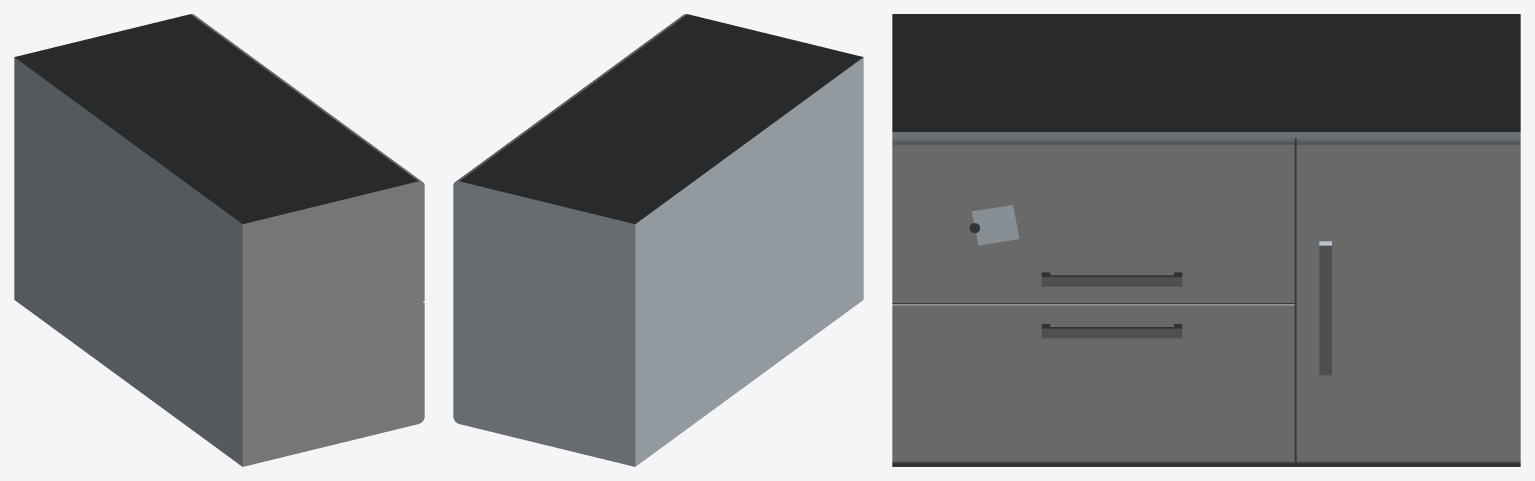
Rendered from fridge.obj.
3 views of the same model, side by side, from view 1: azimuth 30°, elevation 25°; view 2: azimuth 150°, elevation 25°; view 3: azimuth 270°, elevation 25° (orthographic). The views are drawn at different scales.
Visible parts, largest first — view 1: mesh21, mesh25, mesh20, mesh19; view 2: mesh21, mesh22, mesh20, mesh19; view 3: mesh20, mesh30, mesh39, mesh8, mesh19, mesh26, mesh27, mesh33, mesh42, mesh4, mesh13, mesh28.
Part boxes in pixels (box(x1,y1,x2,y2)): mesh21: box(14, 57, 242, 466); mesh25: box(242, 181, 424, 466); mesh20: box(14, 14, 417, 223); mesh19: box(190, 14, 421, 181); mesh21: box(635, 57, 863, 466); mesh22: box(453, 181, 635, 466); mesh20: box(460, 14, 863, 223); mesh19: box(456, 14, 687, 181); mesh20: box(892, 14, 1520, 131); mesh30: box(1296, 144, 1520, 461); mesh39: box(892, 305, 1294, 461); mesh8: box(892, 144, 1294, 302); mesh19: box(892, 132, 1520, 144); mesh26: box(892, 461, 1520, 466); mesh27: box(892, 138, 1296, 465); mesh33: box(1319, 245, 1331, 375); mesh42: box(1041, 328, 1182, 338); mesh4: box(972, 205, 1019, 245); mesh13: box(1041, 277, 1182, 286); mesh28: box(892, 304, 1294, 305).
Bounding box in the file's own units: 0.0356 × 0.0437 × 0.0745.
